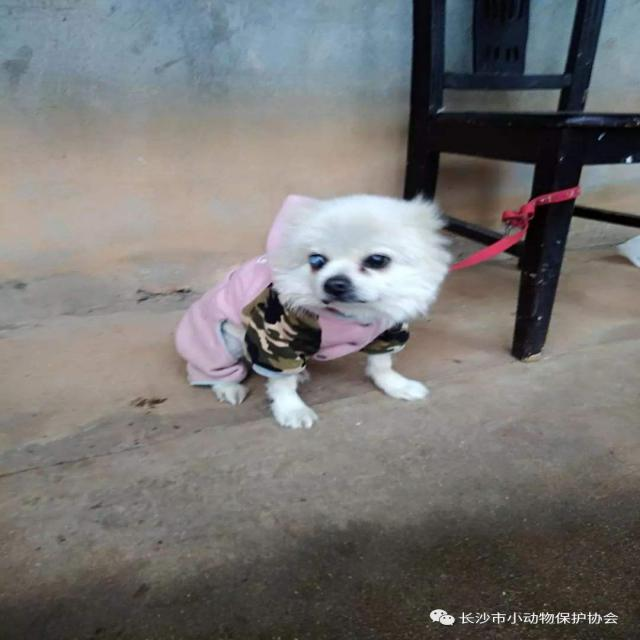eye: (358, 249, 394, 273), (305, 249, 329, 273)
